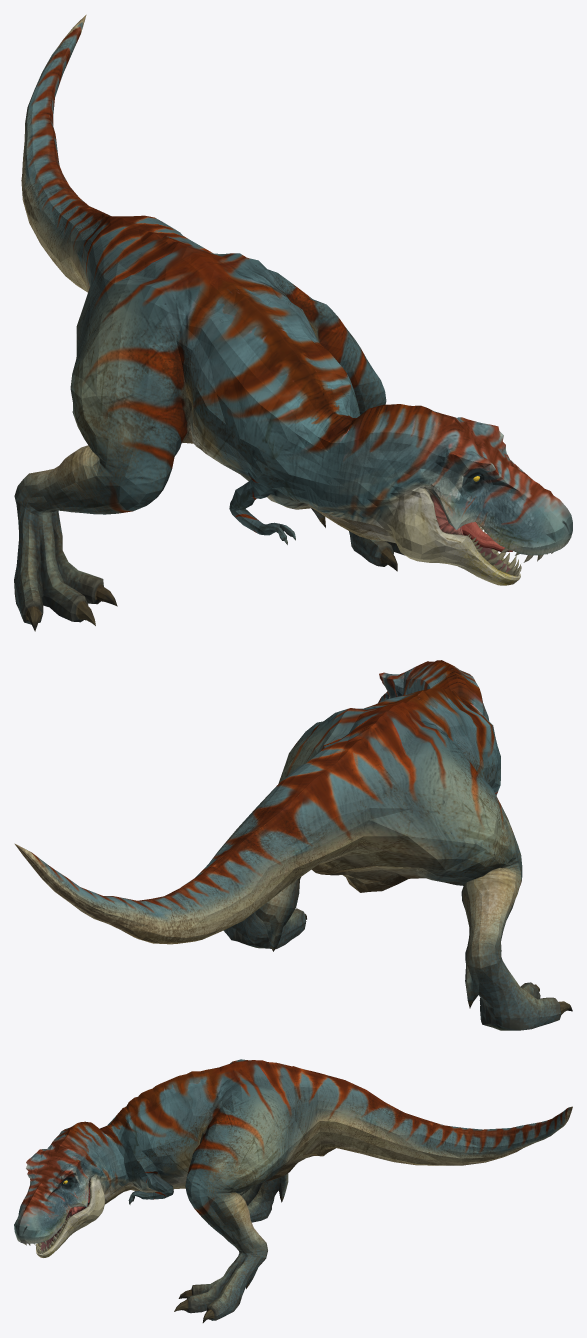
The model's file is dragin.glb.
3 renders of one model, top to bottom at view 1: azimuth 30°, elevation 25°; view 2: azimuth 150°, elevation 25°; view 3: azimuth 270°, elevation 25°, orthographic. The views are drawn at different scales.
Visible parts, largest first — view 1: node_id12; view 2: node_id12; view 3: node_id12.
Part boxes in pixels (x1,y1,x2,y2): node_id12: (14,14,572,631); node_id12: (14,660,572,1030); node_id12: (14,1059,572,1322).
Bounding box in the file's own units: 0.512 × 0.3842 × 0.9795.
3 materials, 3 textured.
